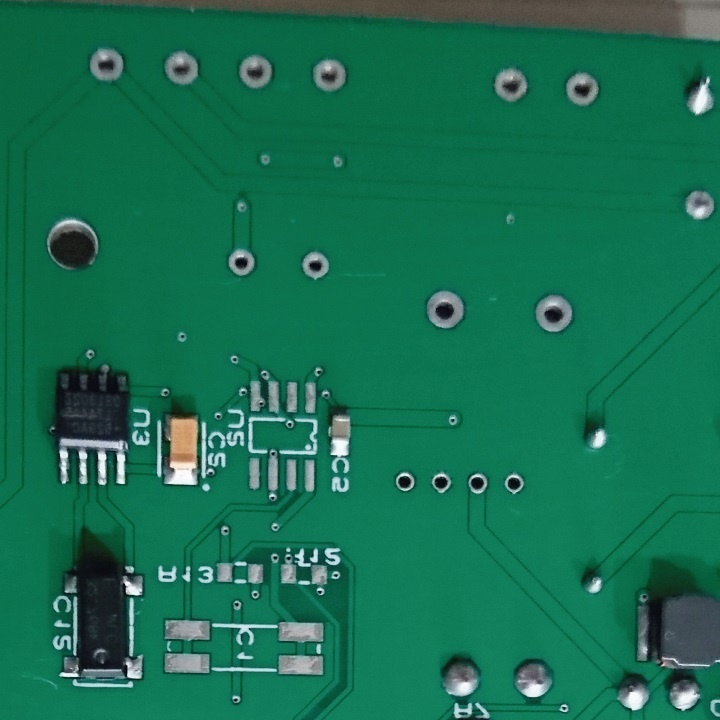F: (531, 292, 578, 334), (423, 286, 464, 333), (84, 46, 127, 85), (681, 186, 720, 227), (561, 71, 603, 109), (162, 47, 200, 89), (310, 57, 350, 96), (237, 52, 275, 91), (491, 63, 528, 103), (299, 246, 330, 286), (225, 246, 259, 280), (427, 470, 454, 498), (464, 471, 488, 497), (501, 473, 527, 497), (392, 470, 415, 496)
